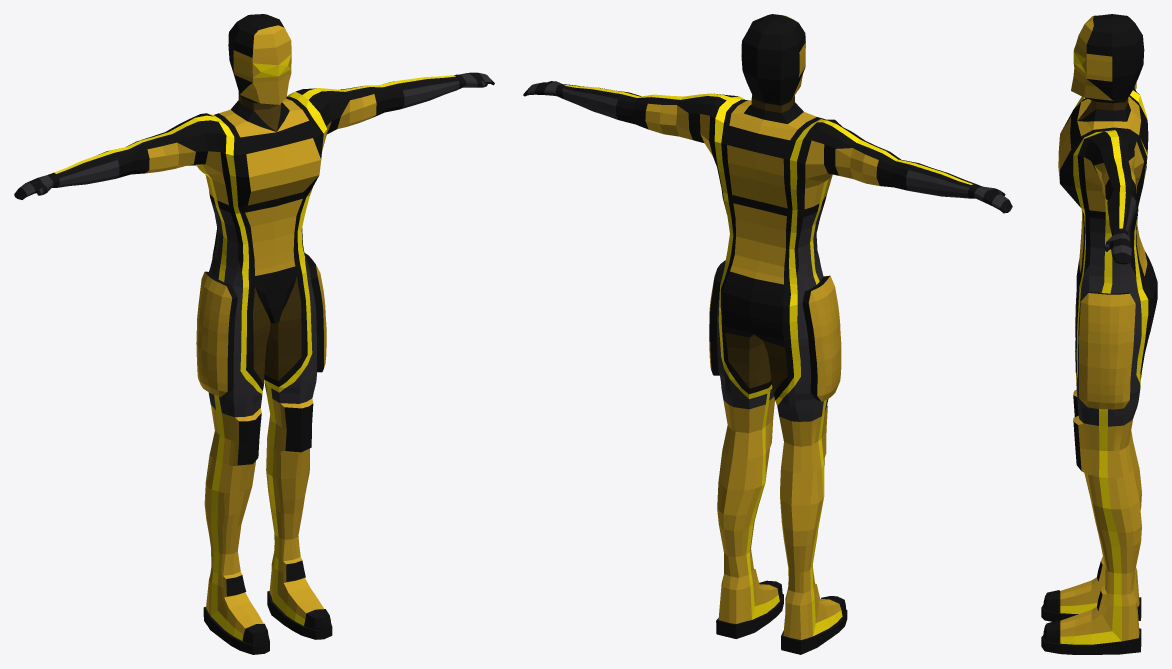
Rendered from TankClass_PlayerModel_Yellow.obj.
3 renders of one model, left to right at view 1: azimuth 30°, elevation 25°; view 2: azimuth 150°, elevation 25°; view 3: azimuth 270°, elevation 25°, orthographic.
Visible parts, largest first — view 1: metarig_object_metarig_mesh; view 2: metarig_object_metarig_mesh; view 3: metarig_object_metarig_mesh.
Part boxes in pixels (x1,y1,x2,y2): metarig_object_metarig_mesh: (14, 14, 494, 654); metarig_object_metarig_mesh: (523, 14, 1012, 654); metarig_object_metarig_mesh: (1041, 14, 1157, 654).
Size of the model in its own units: 1.44 by 1.74 by 0.2994.
